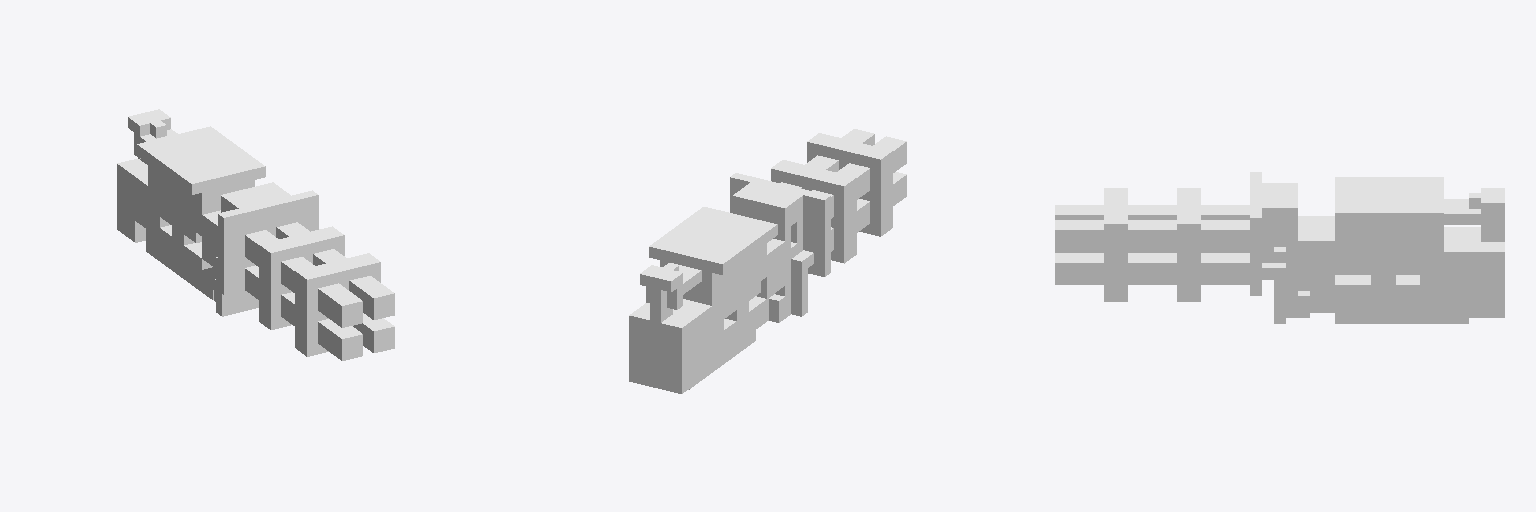
File: weapon_Gatling.obj
3 views of the same model, side by side, from view 1: azimuth 30°, elevation 25°; view 2: azimuth 150°, elevation 25°; view 3: azimuth 270°, elevation 25° (orthographic).
Visible parts, largest first — view 1: object 1; view 2: object 1; view 3: object 1.
Boxes of the visible parts, x1,y1,x2,y2 form: object 1: [117, 109, 394, 360]; object 1: [629, 129, 906, 393]; object 1: [1055, 172, 1504, 323].
Bounding box in the file's own units: 0.9 × 1.1 × 3.7.